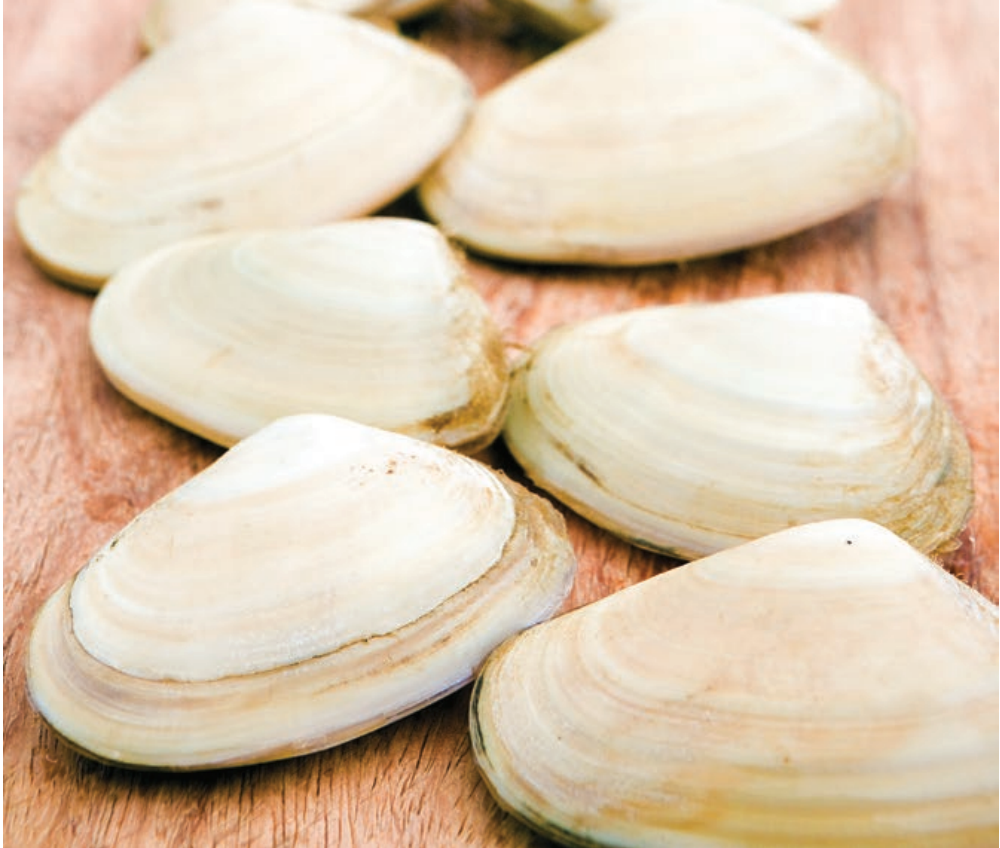tuatua: (20, 410, 581, 772), (471, 509, 999, 838), (17, 5, 476, 298), (500, 290, 976, 564), (426, 2, 910, 264), (83, 216, 511, 444)
